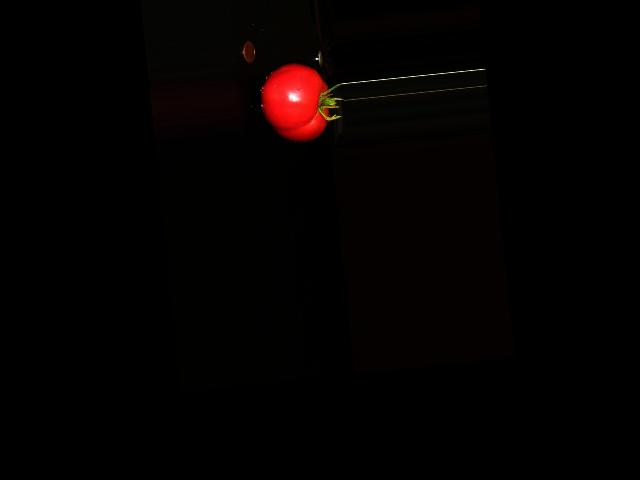tomato: (256, 60, 333, 147)
